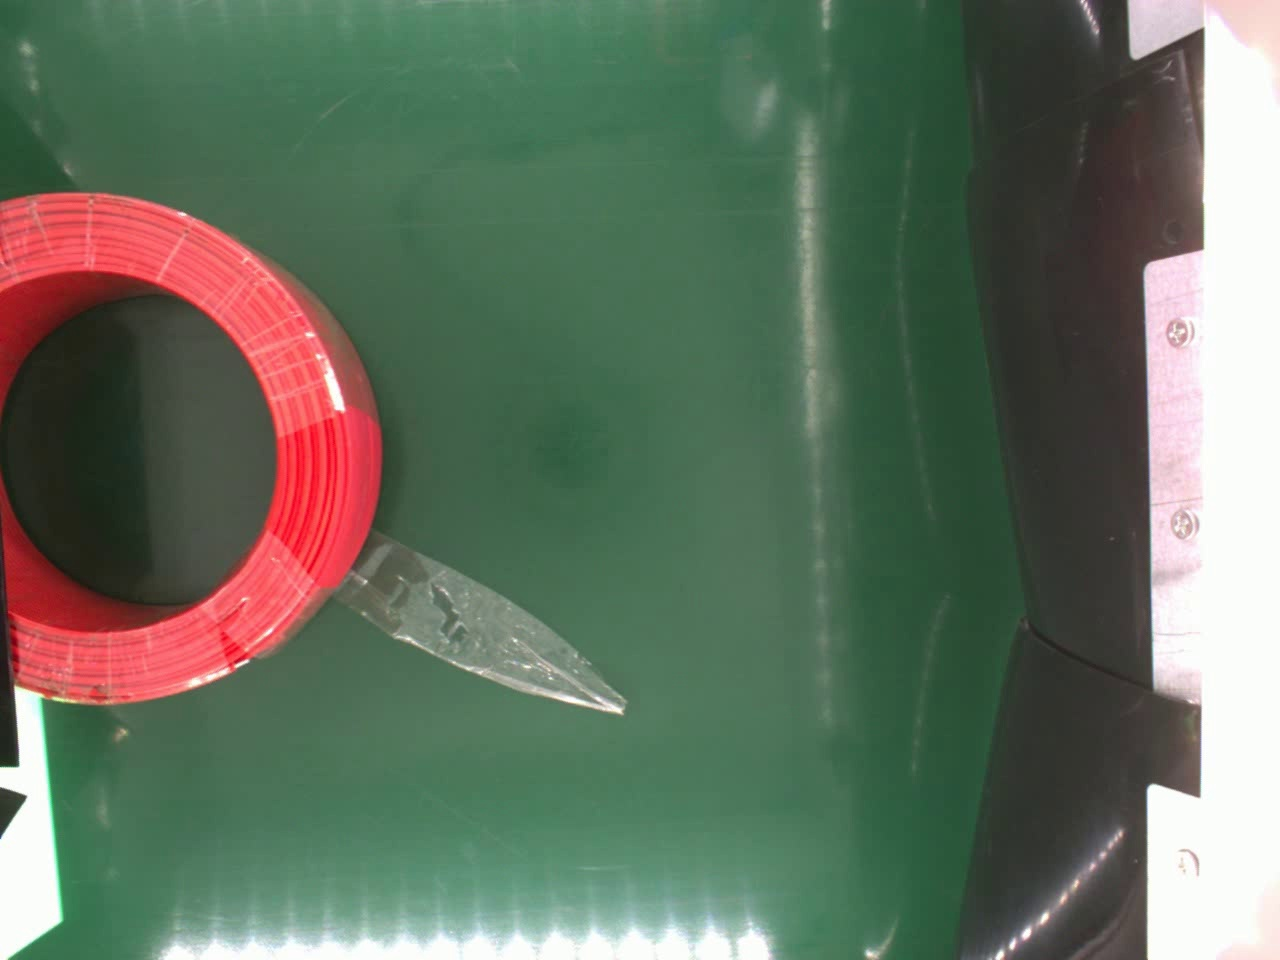red: (0, 189, 385, 701)
